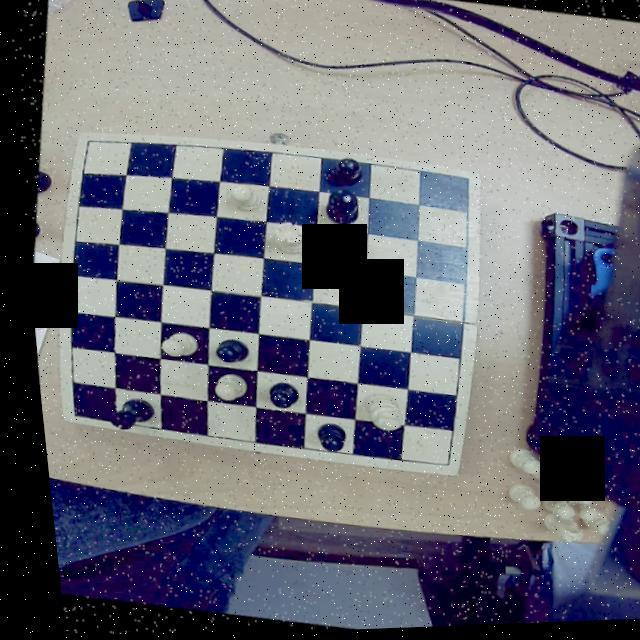chess-table-corners: (444, 172, 473, 198), (423, 453, 450, 477), (51, 405, 83, 425), (70, 134, 95, 156)
